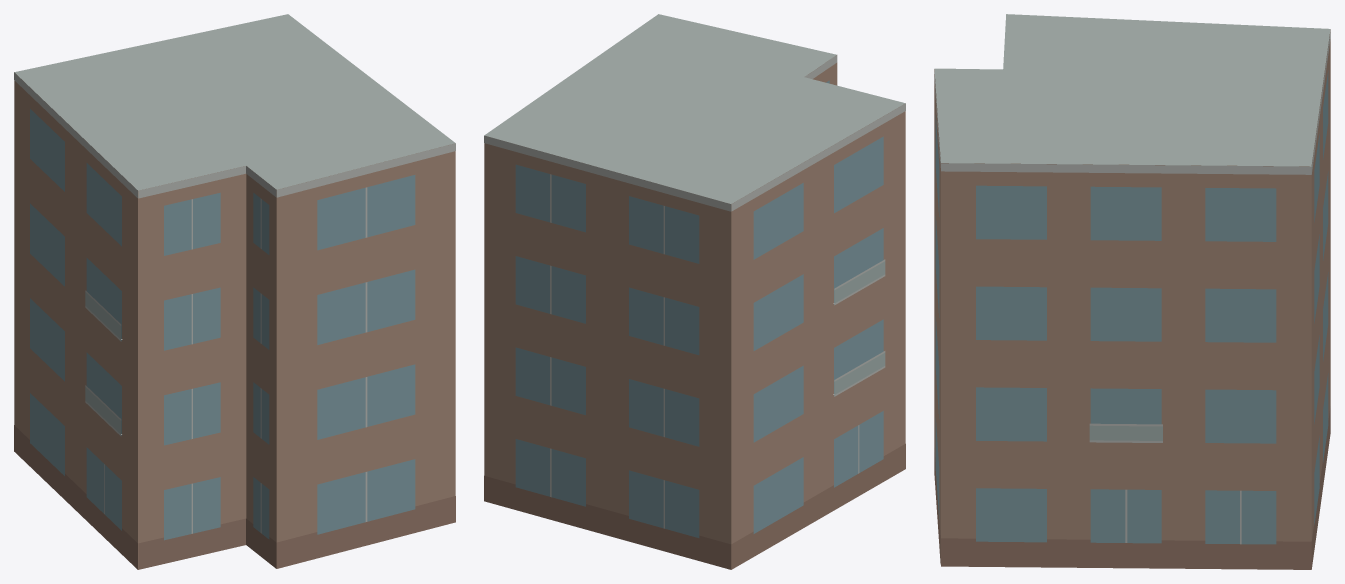
File: survey-upis-32832786.glb
3 renders of one model, left to right at view 1: azimuth 30°, elevation 25°; view 2: azimuth 150°, elevation 25°; view 3: azimuth 270°, elevation 25°, orthographic. The views are drawn at different scales.
Visible parts, largest first — view 1: survey-upis-32832786.tmp; view 2: survey-upis-32832786.tmp; view 3: survey-upis-32832786.tmp.
Boxes of the visible parts, <box> form: survey-upis-32832786.tmp: <box>14,14,455,569</box>; survey-upis-32832786.tmp: <box>484,14,905,569</box>; survey-upis-32832786.tmp: <box>934,14,1330,569</box>.
Size of the model in its own units: 9.49 by 11.7 by 10.42.
